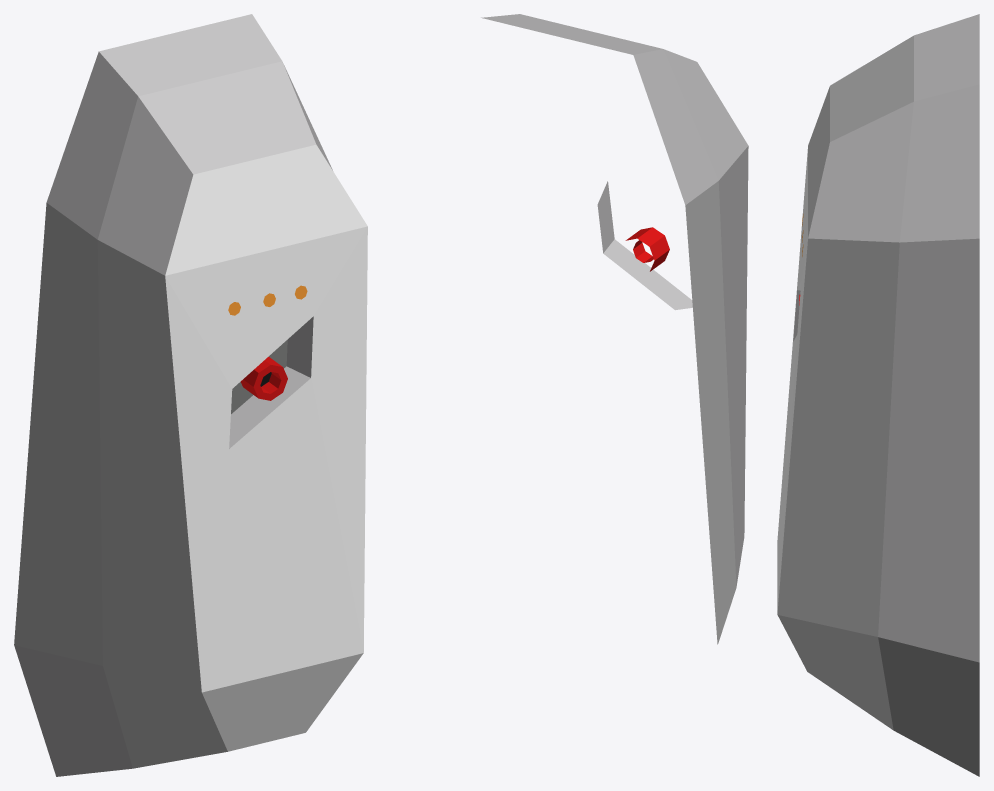
Rendered from GoodAir.glb.
The picture shows the model from 3 angles, left to right: view 1: azimuth 30°, elevation 25°; view 2: azimuth 150°, elevation 25°; view 3: azimuth 270°, elevation 25°; orthographic projection. The views are drawn at different scales.
Parts seen in each view (by area): view 1: BomAr; view 2: BomAr; view 3: BomAr.
Boxes of the visible parts, bbox=[...] form: BomAr: bbox=[14, 14, 367, 776]; BomAr: bbox=[481, 14, 748, 644]; BomAr: bbox=[777, 14, 979, 776].
Size of the model in its own units: 0.138 by 0.2922 by 0.0795.
Materials: 1 (1 with a texture image).
